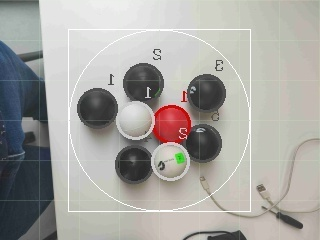Pelota blanca: (285, 137, 320, 214), (151, 141, 191, 183), (115, 101, 155, 141), (181, 229, 241, 240)
Pelota negra: (0, 39, 51, 240), (75, 87, 119, 130), (121, 63, 165, 102), (114, 143, 153, 184), (186, 73, 227, 112), (186, 123, 223, 162)
Pelota roja: (154, 103, 193, 144)
